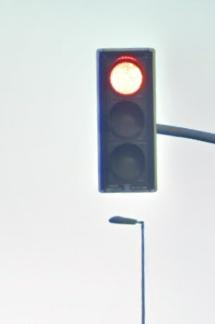redlight: (97, 47, 153, 191)
